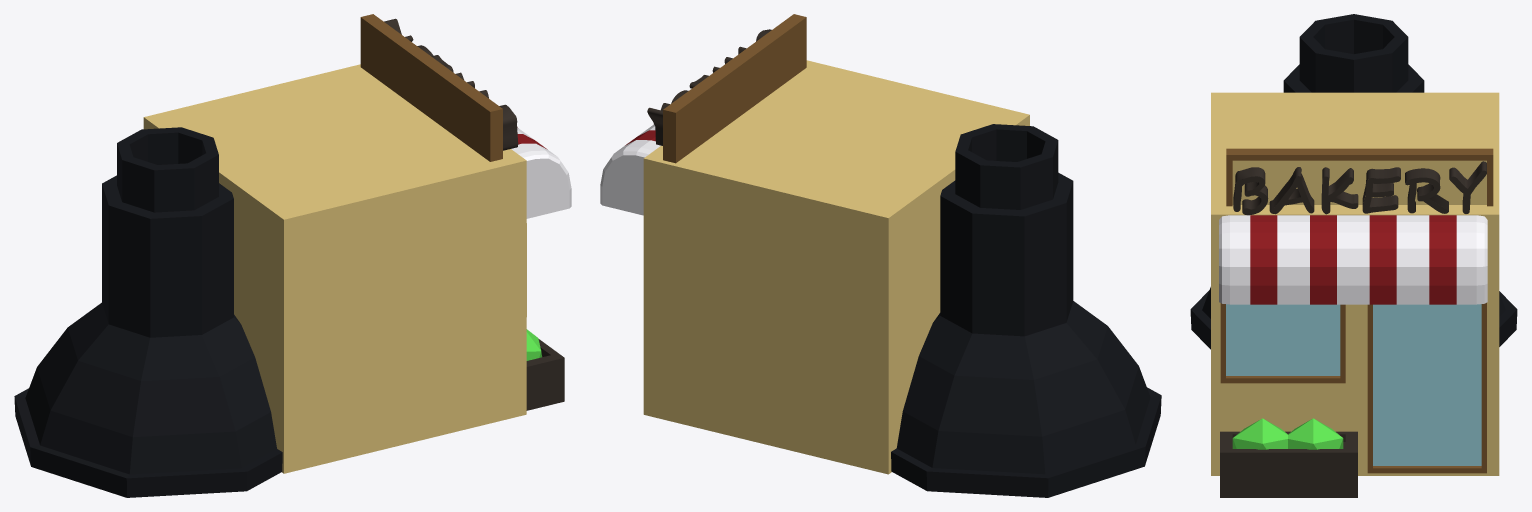
The model's file is A Bakery model.fbx.
3 renders of one model, left to right at view 1: azimuth 30°, elevation 25°; view 2: azimuth 150°, elevation 25°; view 3: azimuth 270°, elevation 25°, orthographic. The views are drawn at different scales.
Parts seen in each view (by area): view 1: Bakery; view 2: Bakery; view 3: Bakery.
Part boxes in pixels (x1,y1,x2,y2): Bakery: [14, 14, 571, 497]; Bakery: [600, 14, 1161, 497]; Bakery: [1190, 14, 1517, 497].
Bounding box in the file's own units: 891 × 542 × 512.
